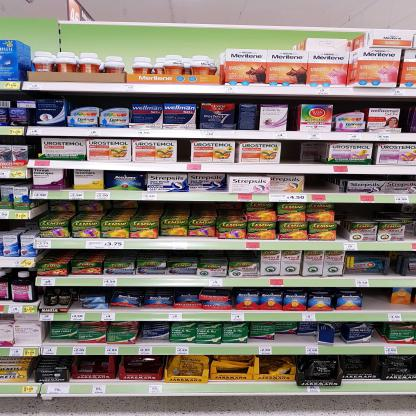Void: (280, 143, 325, 164), (345, 204, 394, 219), (367, 287, 393, 311)
